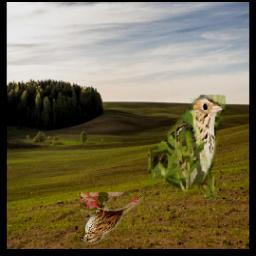Sparrow: (148, 96, 226, 201), (80, 192, 146, 244)
